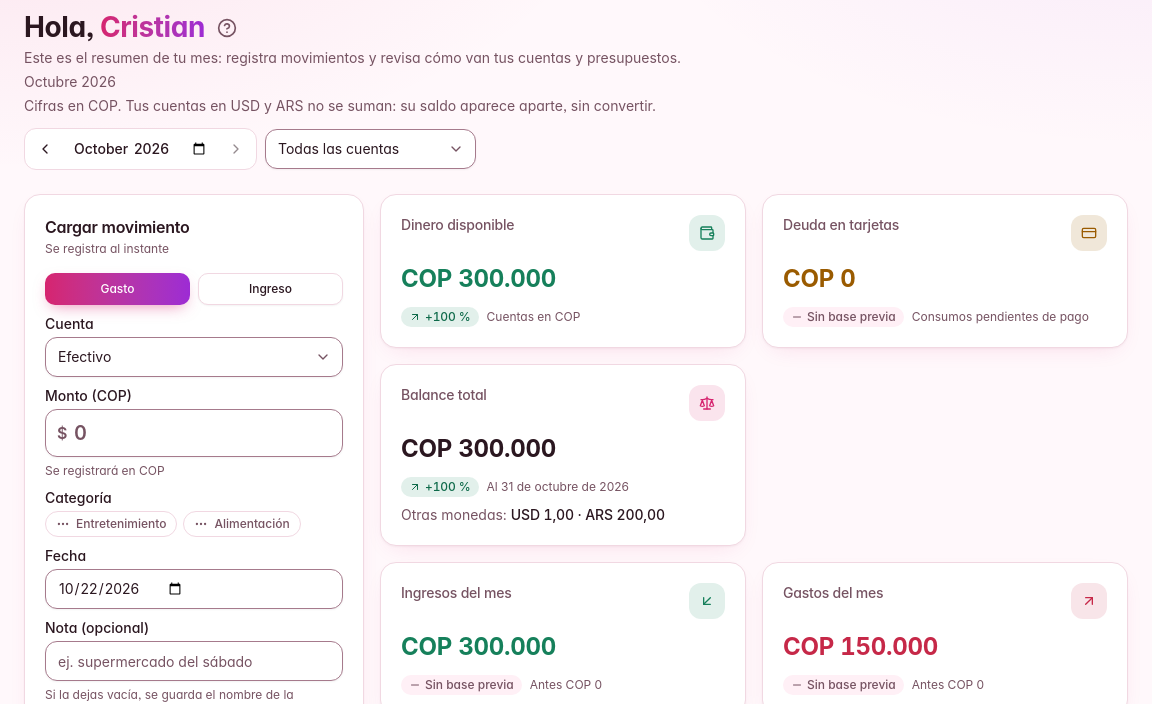
Test: Dashboard › con cuentas en varias monedas › los presupuestos siguen en la moneda principal aunque se elija una cuenta en otra
Select "Cuenta USD" in the dropdown named "Cuenta". click: (370,149)
box: x1=265 y1=129 x2=476 y2=169
(page scrolled)
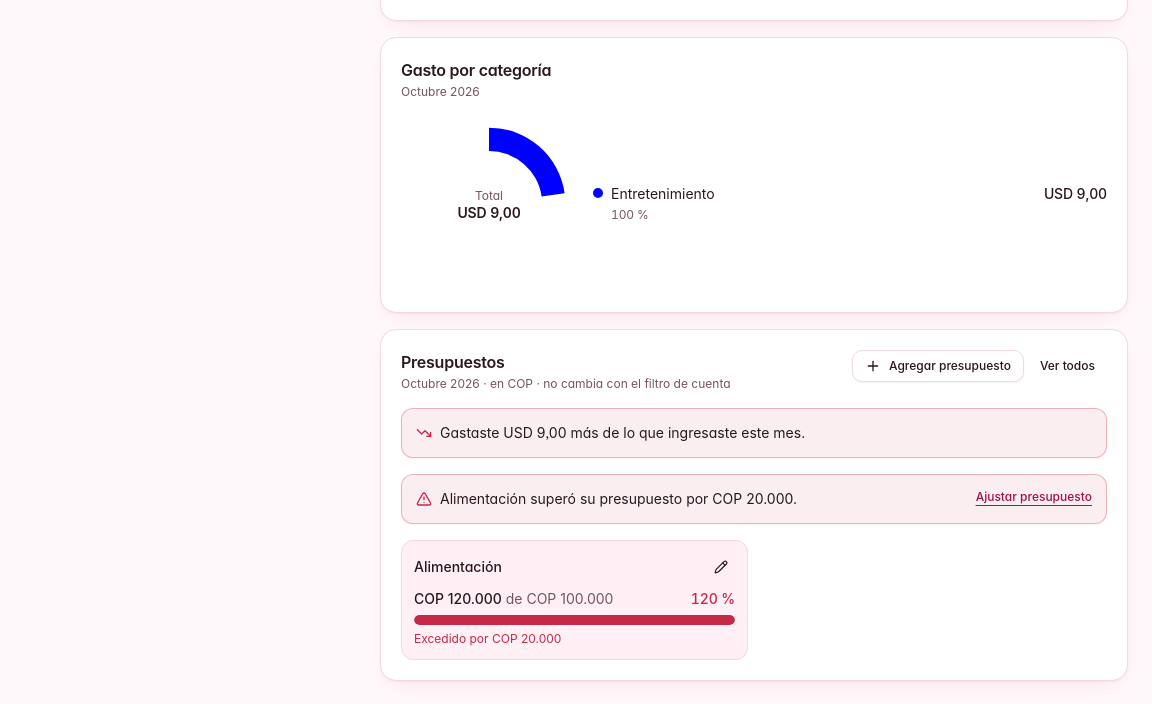
Check: the text "Alimentación superó su presupuesto por COP 20.000." is shown, box x1=440 y1=490 x2=797 y2=507
Check: the text "Gastaste USD 9,00 más de lo que ingresaste este mes." is shown, box x1=440 y1=423 x2=805 y2=443
